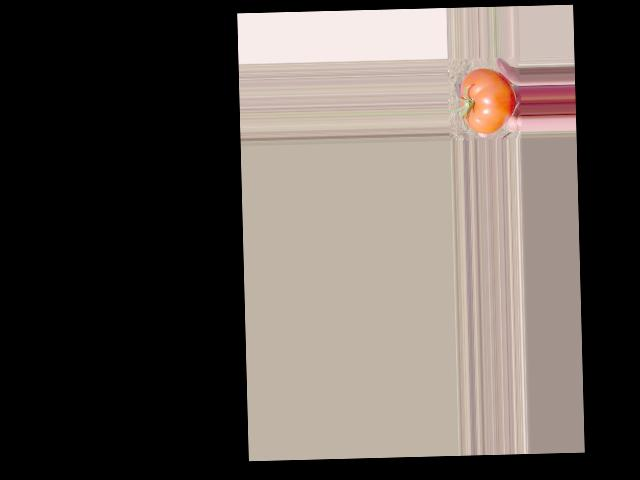tomato: (459, 67, 516, 134)
